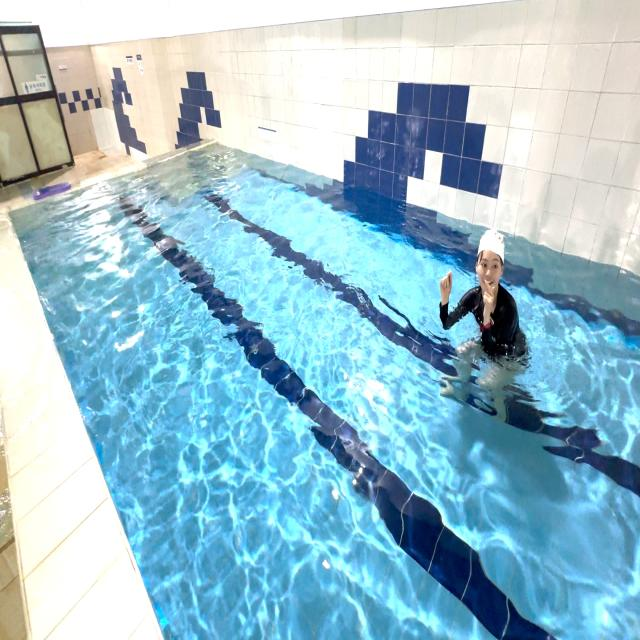Swimming: (423, 216, 550, 442)
